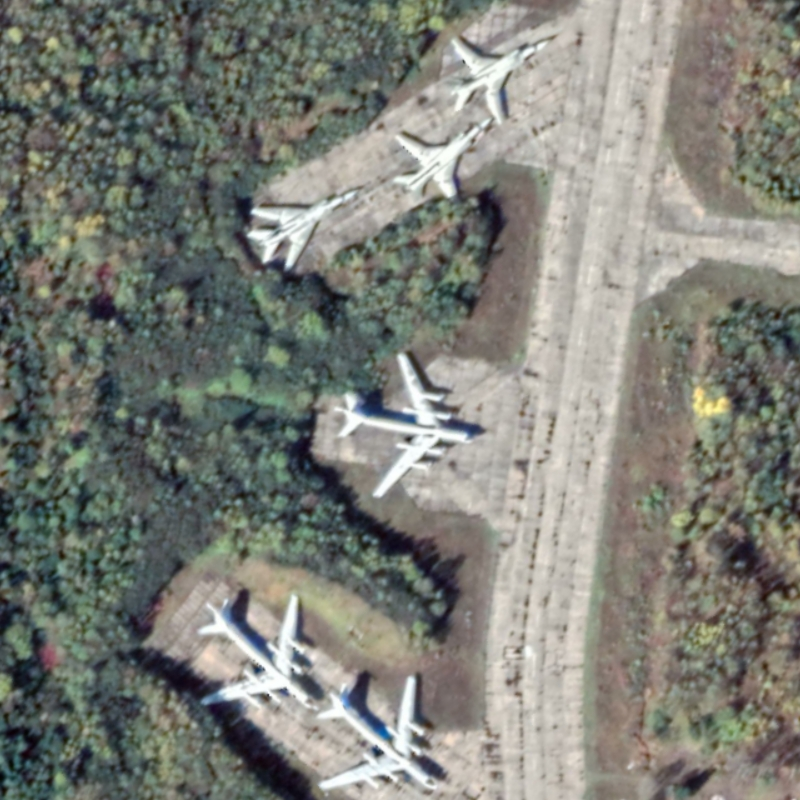A12: (244, 183, 370, 271), (442, 30, 560, 122), (390, 111, 498, 204)
A17: (329, 349, 479, 504), (313, 669, 450, 796), (195, 589, 326, 714)
